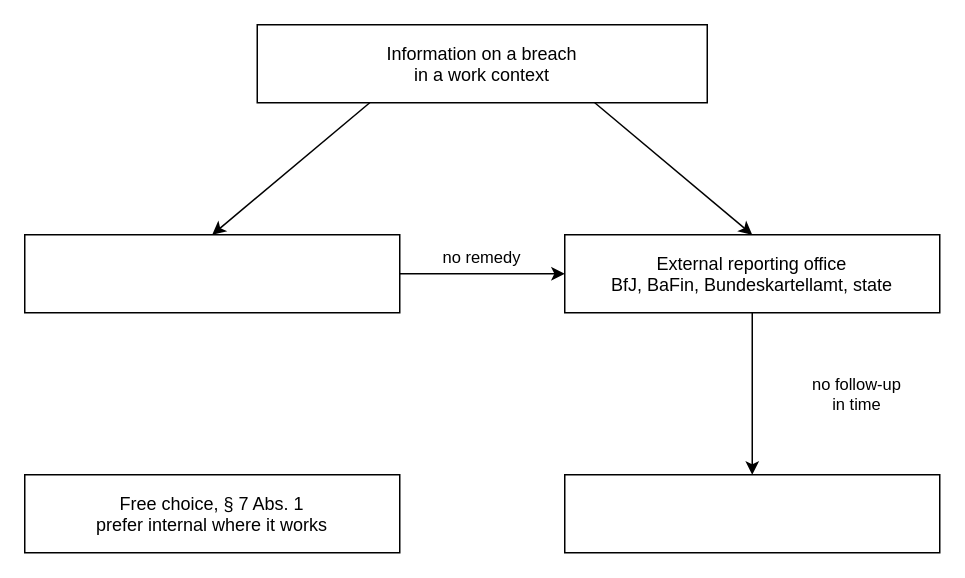
This 965x578 diagram has some shape labels left out. The box of each missing label's shape, as (x1, y1, x2, y2) in pixels:
Internal reporting office of the employer: (23, 233, 400, 313)
Public disclosure only under the conditions of § 32: (563, 473, 940, 553)
